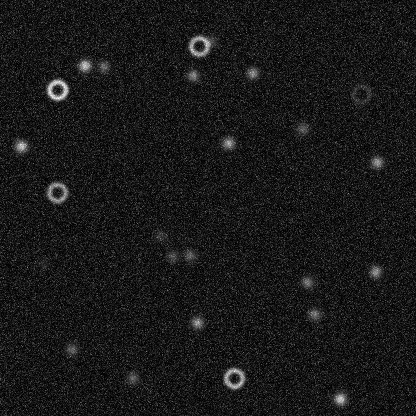Ring: (45, 180, 69, 204), (45, 77, 69, 101), (222, 366, 246, 390), (186, 33, 210, 57), (349, 81, 373, 105)
Spot: (368, 154, 384, 170), (95, 58, 111, 74), (220, 134, 236, 150), (12, 138, 28, 154), (164, 248, 180, 264), (124, 369, 140, 385), (63, 341, 79, 357), (367, 263, 383, 279), (189, 314, 205, 330), (294, 120, 310, 136), (331, 390, 347, 406), (184, 67, 200, 83), (306, 306, 322, 322), (299, 274, 315, 290), (181, 247, 197, 263), (76, 57, 92, 73), (152, 227, 168, 243), (244, 65, 260, 81), (35, 256, 51, 272), (203, 32, 219, 48)
